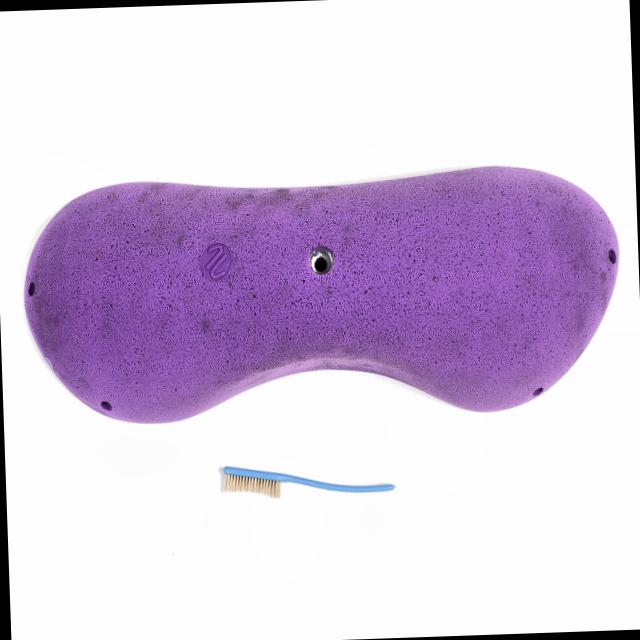Hold: (21, 150, 630, 436)
